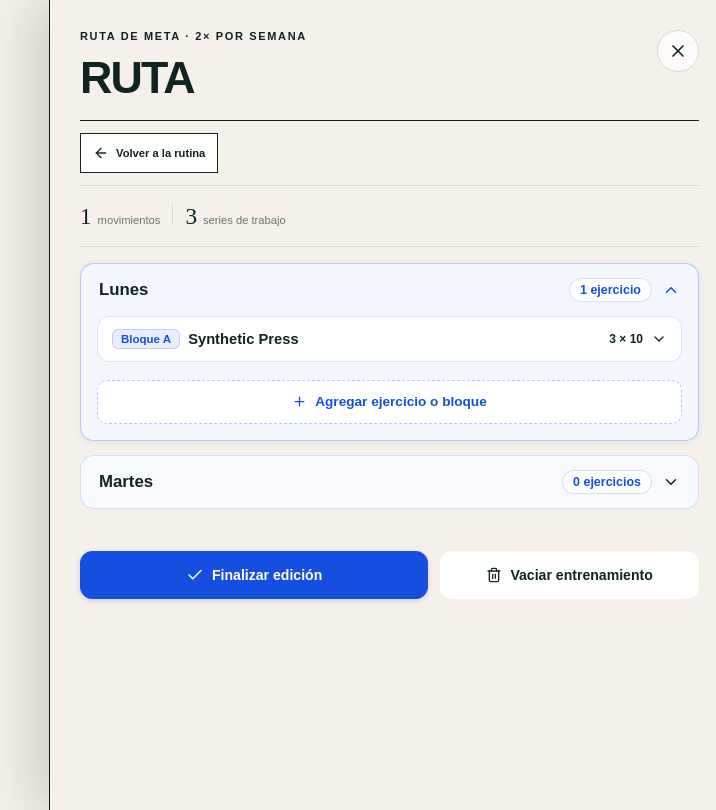
Scenario: independent manual prescriptions › does not display redundant day header or day picker buttons inside exercise adder when editing a day
The image size is (716, 810).
# Open adder in Monday accordion
Click the button "Agregar ejercicio o bloque" at (390, 402), box [97,380,682,424]
(page scrolled)
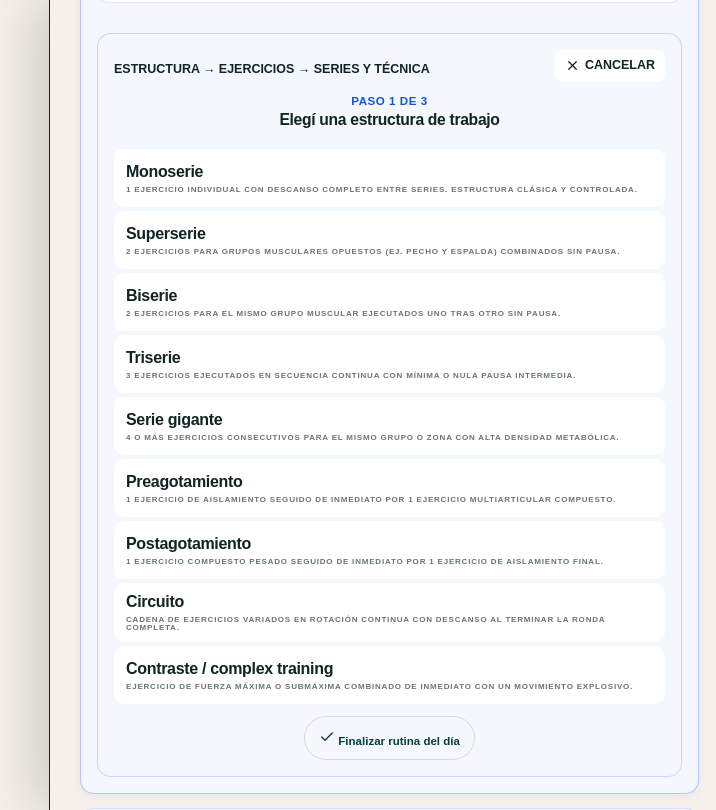
Result: the element named "Agregar ejercicios" is shown
